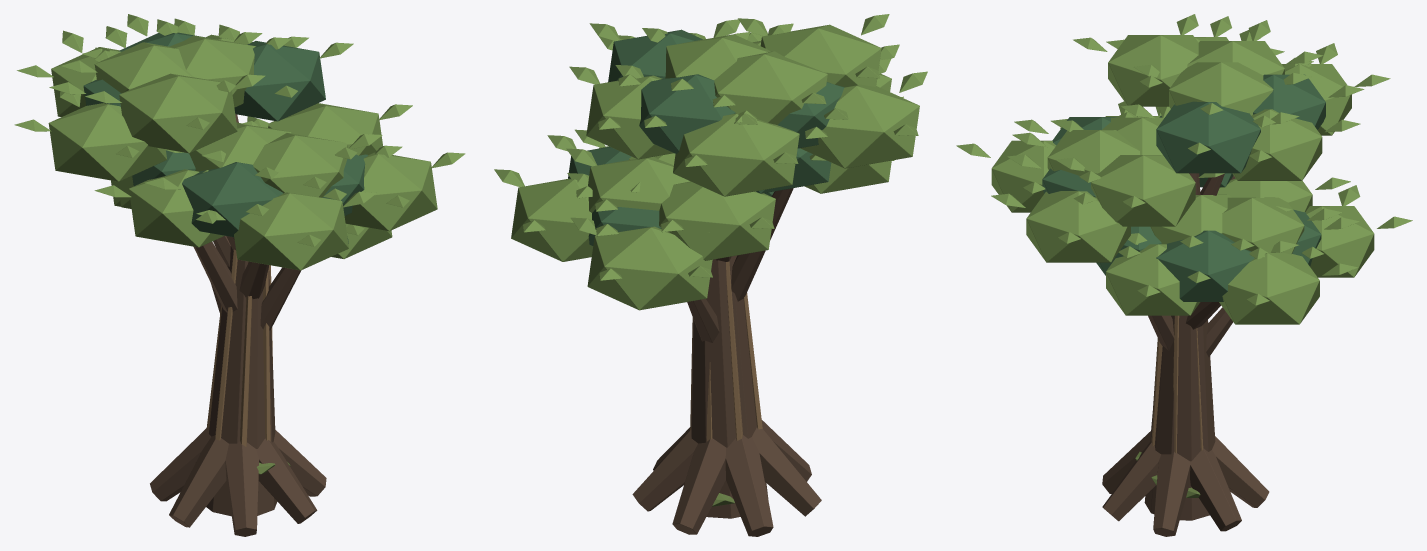
The model's file is elder_oak.glb.
3 renders of one model, left to right at view 1: azimuth 30°, elevation 25°; view 2: azimuth 150°, elevation 25°; view 3: azimuth 270°, elevation 25°, orthographic. The views are drawn at different scales.
Parts seen in each view (by area): view 1: LeafMass.008, RidgedTrunk.004, LeafMass.009, BarkRidge.004; view 2: LeafMass.008, RidgedTrunk.004, LeafMass.009, BarkRidge.004; view 3: LeafMass.008, RidgedTrunk.004, LeafMass.009, BarkRidge.004.
Boxes of the visible parts, x1,y1,x2,y2 form: LeafMass.008: [14, 14, 465, 270]; RidgedTrunk.004: [150, 114, 326, 536]; LeafMass.009: [83, 32, 367, 243]; BarkRidge.004: [206, 249, 272, 446]; LeafMass.008: [494, 14, 927, 310]; RidgedTrunk.004: [632, 188, 821, 536]; LeafMass.009: [568, 29, 844, 245]; BarkRidge.004: [690, 261, 762, 441]; LeafMass.008: [956, 14, 1412, 324]; RidgedTrunk.004: [1102, 173, 1269, 536]; LeafMass.009: [1042, 74, 1325, 301]; BarkRidge.004: [1151, 315, 1203, 453].
Bounding box in the file's own units: 4.55 × 5.18 × 4.89.
